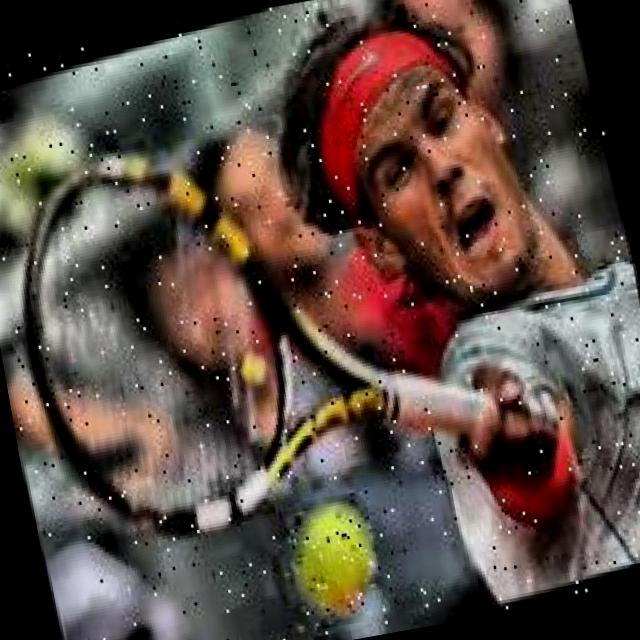Tennis Ball: (266, 486, 392, 640)
